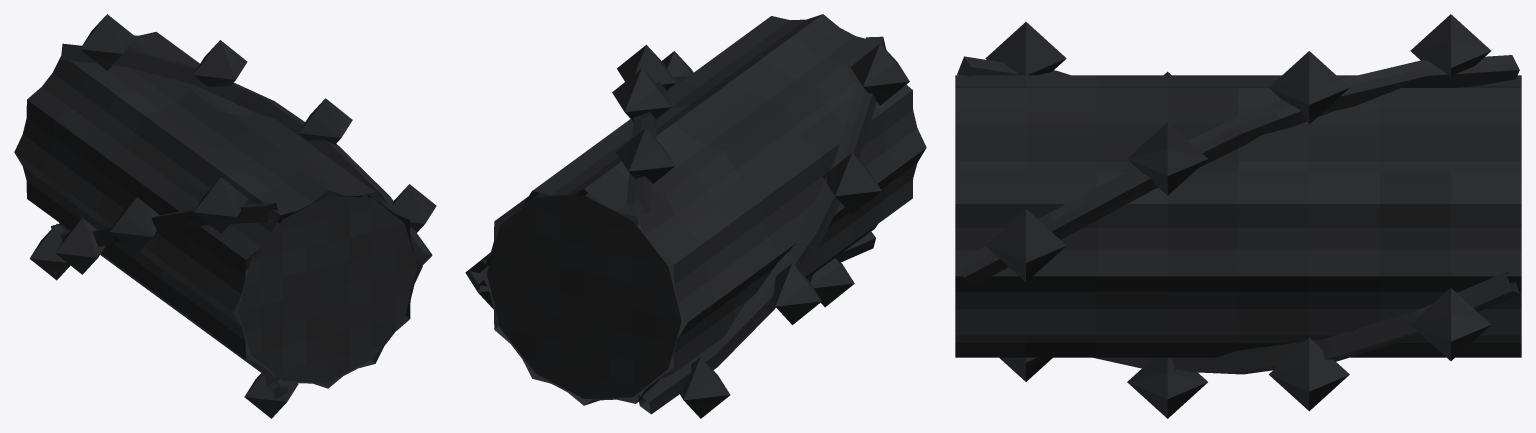
File: decopole_labroadwayrose_shaft.obj
The picture shows the model from 3 angles, left to right: view 1: azimuth 30°, elevation 25°; view 2: azimuth 150°, elevation 25°; view 3: azimuth 270°, elevation 25°; orthographic projection. The views are drawn at different scales.
Parts seen in each view (by area): view 1: decopole_labroadwayrose_shaft; view 2: decopole_labroadwayrose_shaft; view 3: decopole_labroadwayrose_shaft.
Boxes of the visible parts, left/top/right/bottom form: decopole_labroadwayrose_shaft: left=14, top=14, right=436, bottom=418; decopole_labroadwayrose_shaft: left=465, top=14, right=926, bottom=418; decopole_labroadwayrose_shaft: left=955, top=14, right=1521, bottom=418.
Bounding box in the file's own units: 0.7173 × 0.7173 × 1.
